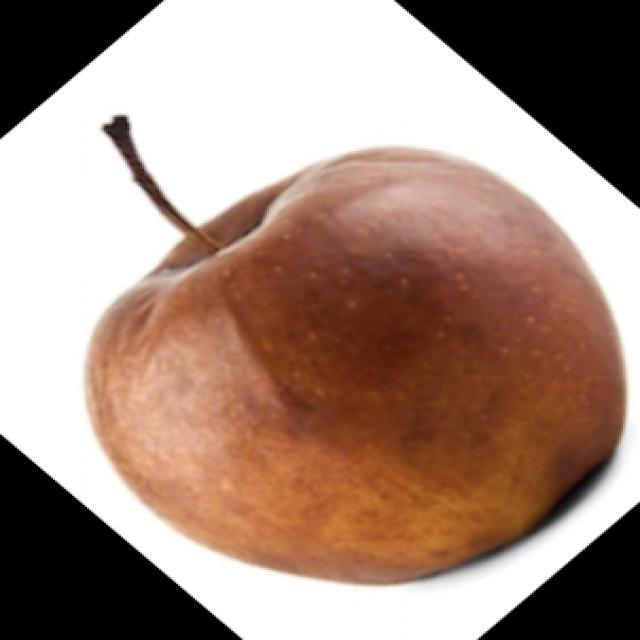Rotten: (53, 155, 635, 595)
